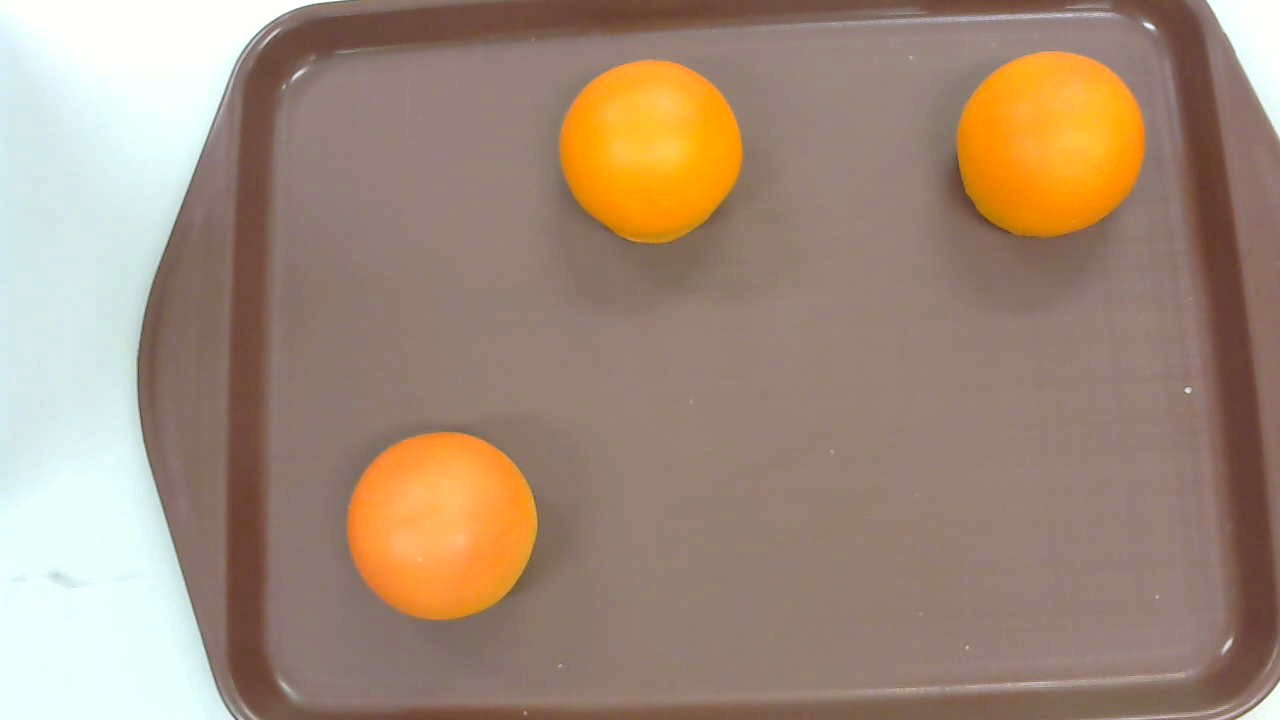bun: (347, 431, 541, 622), (955, 51, 1144, 240), (558, 58, 745, 244)
